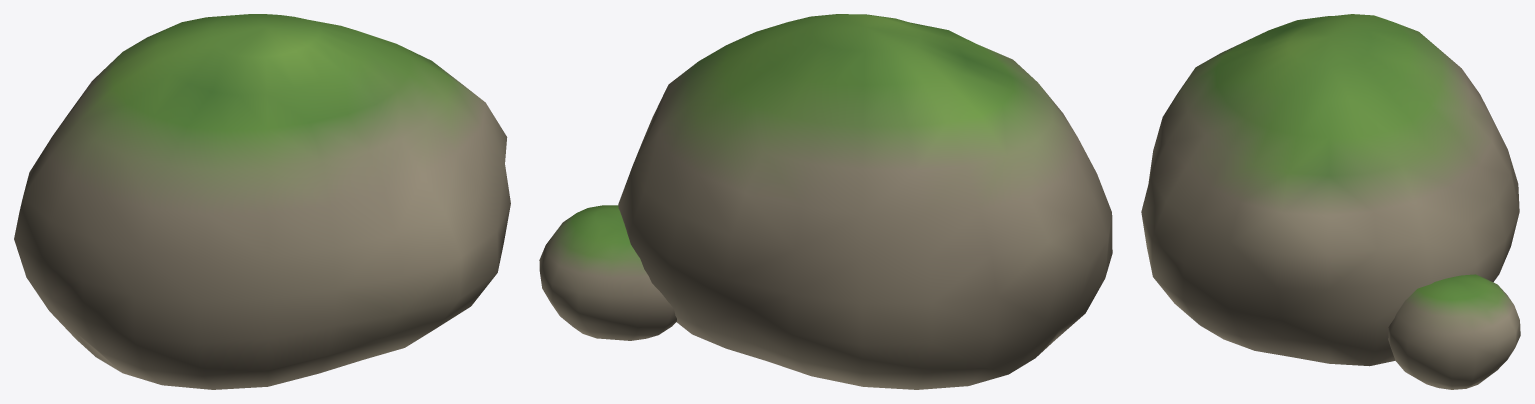
Rendered from RockA.fbx.
The picture shows the model from 3 angles, left to right: view 1: azimuth 30°, elevation 25°; view 2: azimuth 150°, elevation 25°; view 3: azimuth 270°, elevation 25°; orthographic projection. The views are drawn at different scales.
Visible parts, largest first — view 1: RockA; view 2: RockA; view 3: RockA.
Part boxes in pixels (x1,y1,x2,y2): RockA: (14,14,510,389); RockA: (539,14,1112,389); RockA: (1141,14,1520,389).
Bounding box in the file's own units: 1.18 × 0.6952 × 0.9274.
